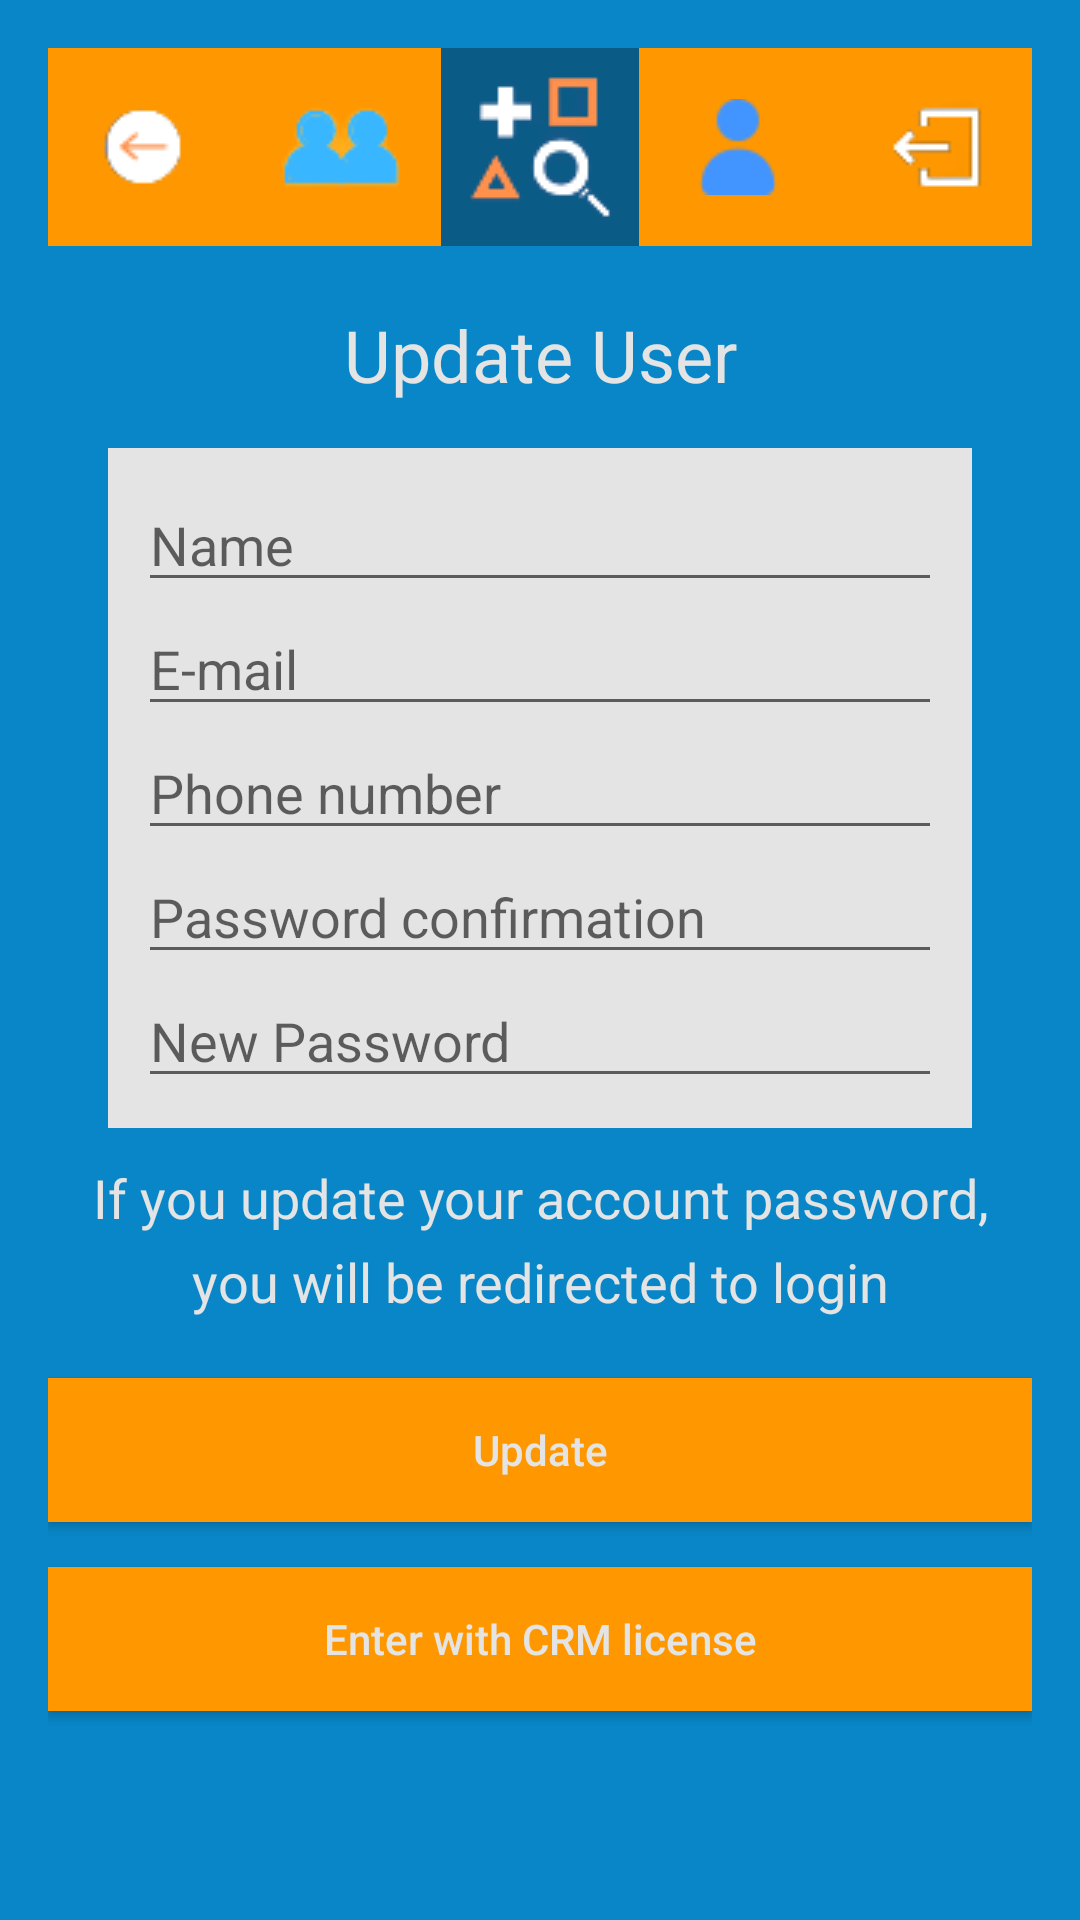

Icon click points for this 1080 × 1920 phone screenshot, format (x,y):
button profile description: (738,147)
profiles button: (342,147)
